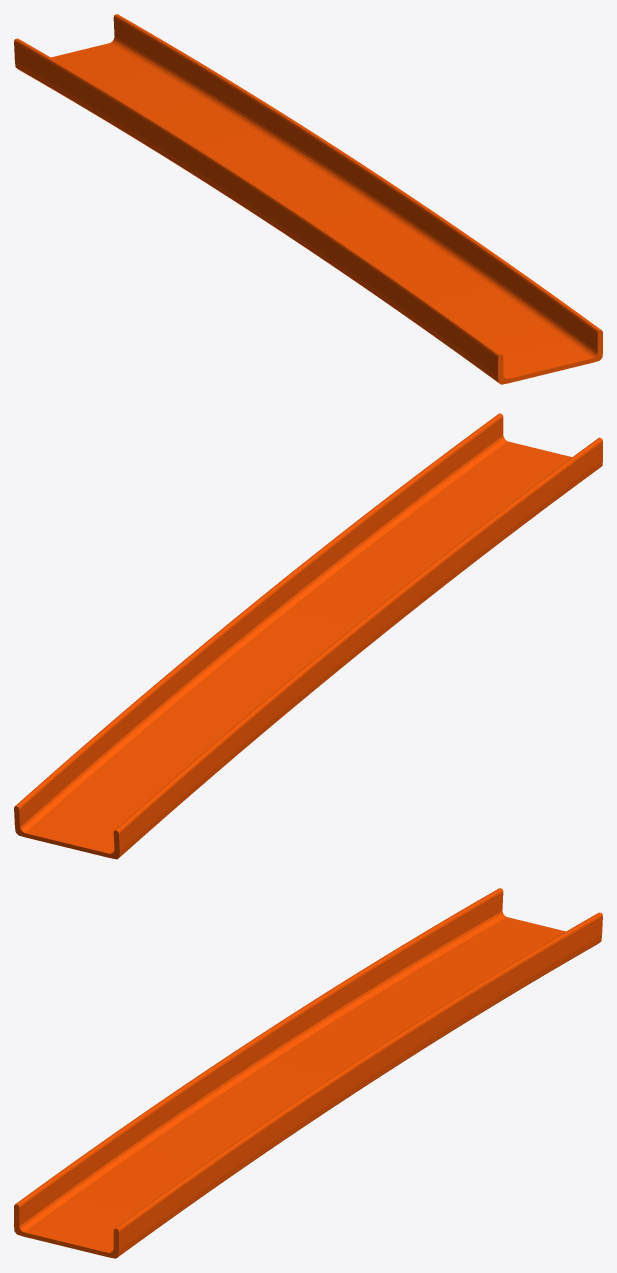
Rendered from Descida 5.FBX.
The picture shows the model from 3 angles, top to bottom: view 1: azimuth 30°, elevation 25°; view 2: azimuth 150°, elevation 25°; view 3: azimuth 330°, elevation 25°; orthographic projection.
Visible parts, largest first — view 1: Descida 5; view 2: Descida 5; view 3: Descida 5.
Boxes of the visible parts, box(x1,y1,x2,y2) form: Descida 5: box(14, 14, 602, 384); Descida 5: box(14, 413, 602, 859); Descida 5: box(14, 888, 602, 1258).
Bounding box in the file's own units: 250 × 156 × 1999.
